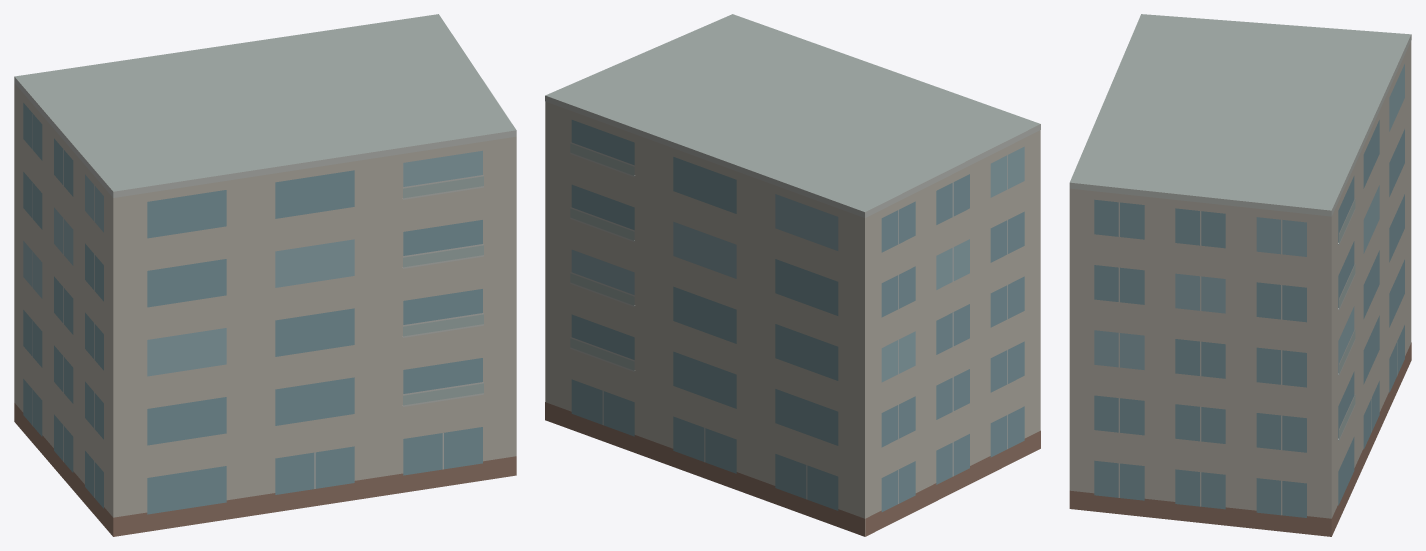
The model's file is survey-upis-32976729.glb.
3 renders of one model, left to right at view 1: azimuth 30°, elevation 25°; view 2: azimuth 150°, elevation 25°; view 3: azimuth 270°, elevation 25°, orthographic. The views are drawn at different scales.
Parts seen in each view (by area): view 1: survey-upis-32976729.tmp; view 2: survey-upis-32976729.tmp; view 3: survey-upis-32976729.tmp.
Part boxes in pixels (<box>): survey-upis-32976729.tmp: <box>14,14,516,536</box>; survey-upis-32976729.tmp: <box>545,14,1040,536</box>; survey-upis-32976729.tmp: <box>1069,14,1411,536</box>.
Size of the model in its own units: 17.2 by 13.3 by 12.64.
